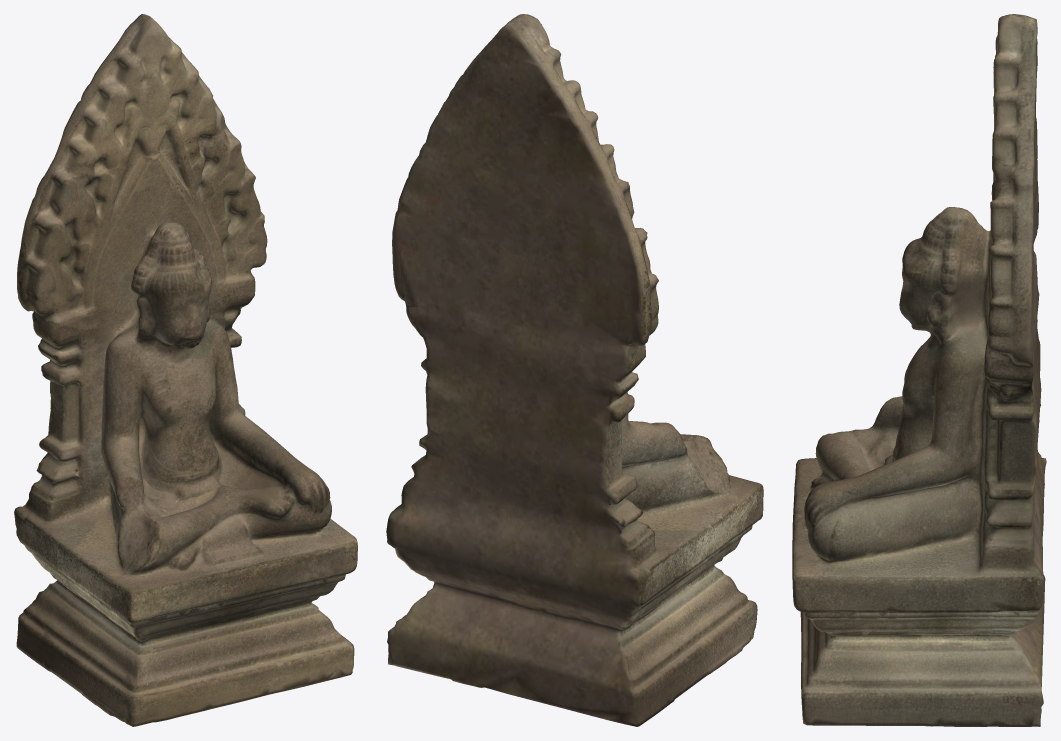
Rendered from 18_thanphuonghuong_kubera_final.glb.
3 views of the same model, side by side, from view 1: azimuth 30°, elevation 25°; view 2: azimuth 150°, elevation 25°; view 3: azimuth 270°, elevation 25° (orthographic). The views are drawn at different scales.
Bounding box in the file's own units: 0.3629 × 0.9006 × 0.3165.
1 material, 1 textured.
